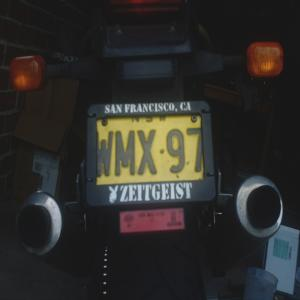Vehicle-registration-plate: (98, 116, 206, 186)
